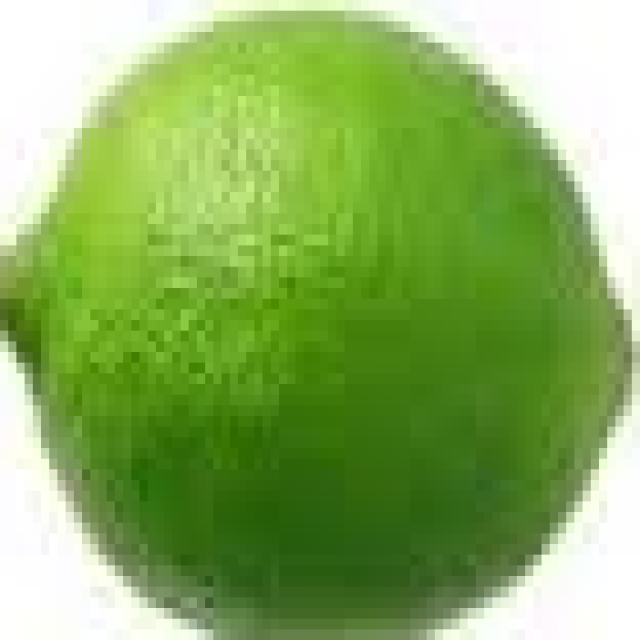lemon: (0, 0, 632, 640)
